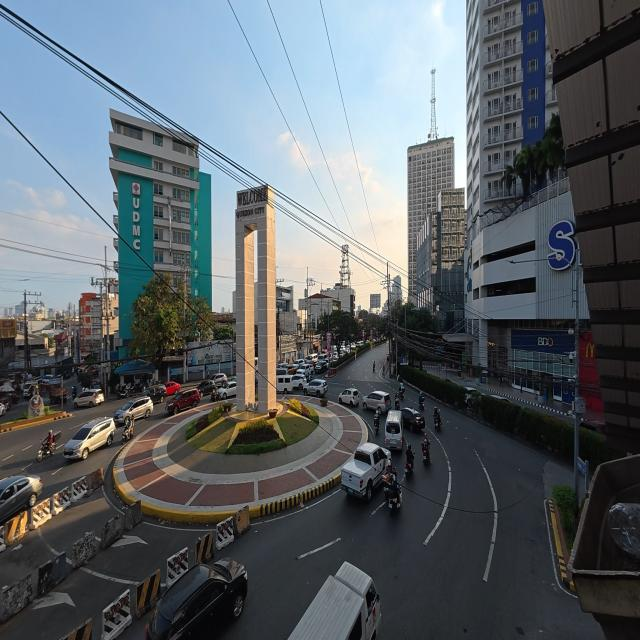car: (145, 559, 247, 639), (64, 417, 115, 459), (0, 475, 42, 523), (114, 396, 153, 425), (166, 389, 200, 414), (362, 391, 391, 413), (401, 408, 425, 432), (74, 389, 104, 408), (303, 379, 327, 397), (145, 384, 166, 403), (339, 388, 360, 406), (218, 381, 237, 400), (580, 420, 605, 434), (198, 380, 217, 396), (297, 363, 314, 380), (23, 380, 40, 397), (465, 387, 480, 405), (291, 373, 306, 390), (276, 364, 297, 375), (165, 381, 180, 396), (211, 373, 227, 386), (490, 394, 511, 403), (314, 360, 328, 373), (306, 354, 317, 364), (276, 367, 288, 375), (287, 365, 297, 374), (293, 359, 304, 367), (0, 401, 6, 415), (318, 353, 327, 361)
motorcycle: (37, 432, 60, 461), (385, 474, 401, 514), (122, 420, 134, 444), (422, 442, 430, 465), (117, 385, 129, 398), (405, 461, 413, 477), (211, 388, 220, 402), (434, 414, 441, 431), (374, 413, 379, 435), (419, 397, 424, 410), (395, 398, 400, 410), (72, 386, 76, 399), (399, 389, 404, 399), (373, 362, 375, 372)
trucks: (341, 443, 390, 500)
vans: (289, 562, 380, 639), (385, 410, 403, 450), (277, 375, 293, 394)
